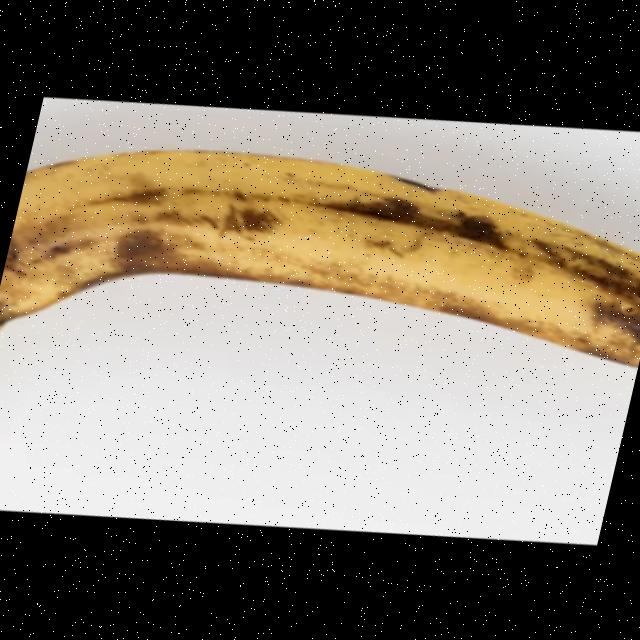overripe: (0, 90, 640, 471)
